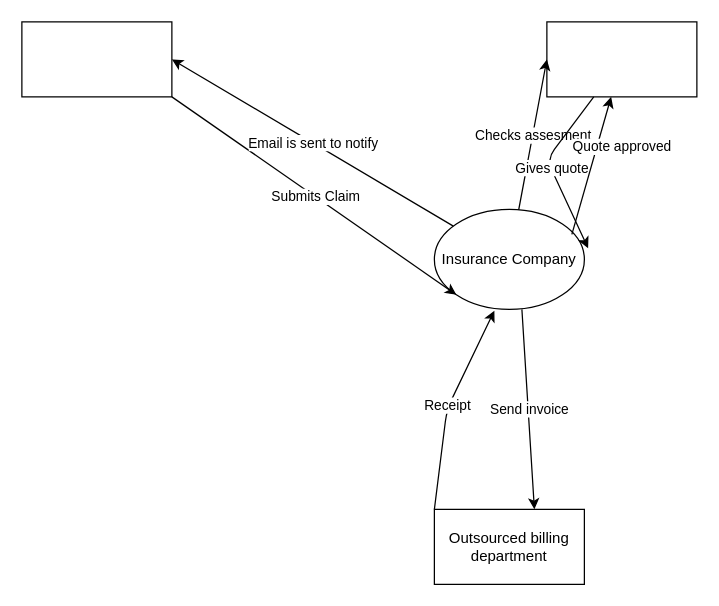
Some shapes in this 719 by 606 pixel diagram are drawn without their labels. Each missing label, with the centre of its shape:
Customer: (x=96, y=59)
Garage: (x=621, y=59)
